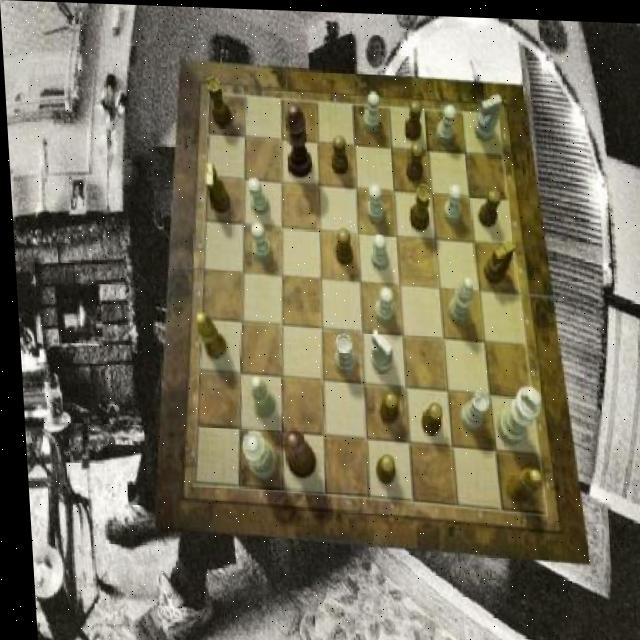bishop: (193, 311, 223, 358), (499, 463, 536, 500)
black-bishop: (283, 100, 309, 176)
black-king: (478, 237, 514, 282), (202, 161, 228, 213)
black-knight: (473, 184, 499, 223), (402, 139, 423, 180), (402, 96, 421, 138), (416, 399, 438, 434), (373, 387, 395, 422), (329, 133, 348, 172), (330, 226, 349, 263), (369, 452, 390, 483)
black-pawn: (275, 426, 311, 478)
black-queen: (205, 75, 230, 127), (405, 181, 430, 229)
black-rook: (443, 273, 471, 321), (246, 374, 272, 418)
white-bishop: (490, 381, 538, 443)
white-king: (471, 91, 503, 139), (366, 326, 390, 370)
white-knight: (433, 100, 455, 141), (440, 182, 462, 221), (368, 283, 390, 321), (245, 176, 267, 213), (248, 221, 269, 259), (360, 90, 379, 131), (363, 181, 382, 220), (367, 231, 386, 269)
white-pawn: (235, 428, 273, 478)
white-queen: (455, 387, 487, 428), (328, 332, 352, 373)
